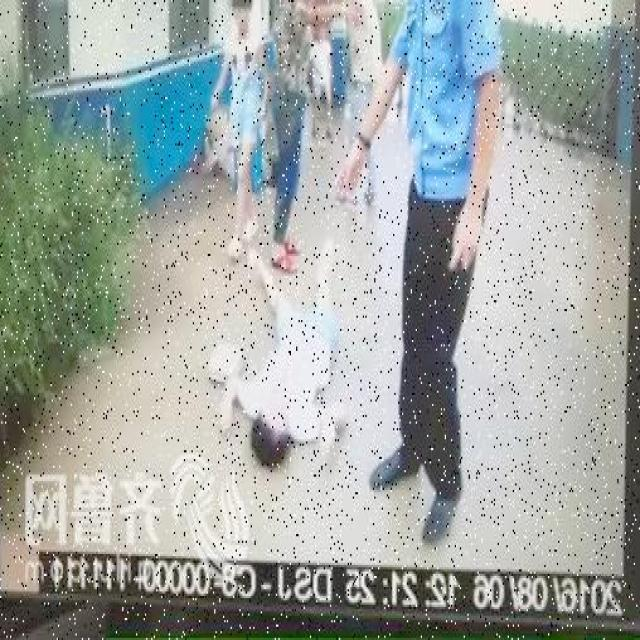fall: (224, 236, 345, 444)
